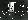person: (7, 4, 14, 16)
